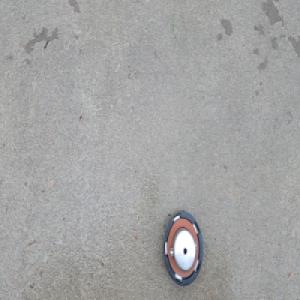FuelCap: (159, 206, 202, 285)
